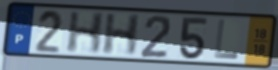2: (139, 14, 175, 60), (32, 9, 65, 55)
5: (178, 15, 210, 61)
H: (64, 11, 108, 56), (100, 13, 144, 57)
L: (212, 18, 241, 61)
